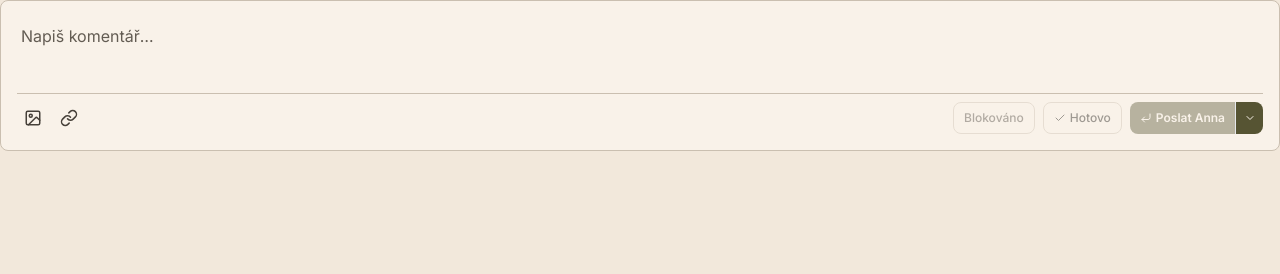
Test: CommentComposer — peer picker (V10) › opens the peer dropdown on chevron click + lists every peer
The width and height of the screenshot is (1280, 274).
Click the button named "Vybrat příjemce".
click(1249, 118)  # box left=1235, top=102, right=1263, bottom=134
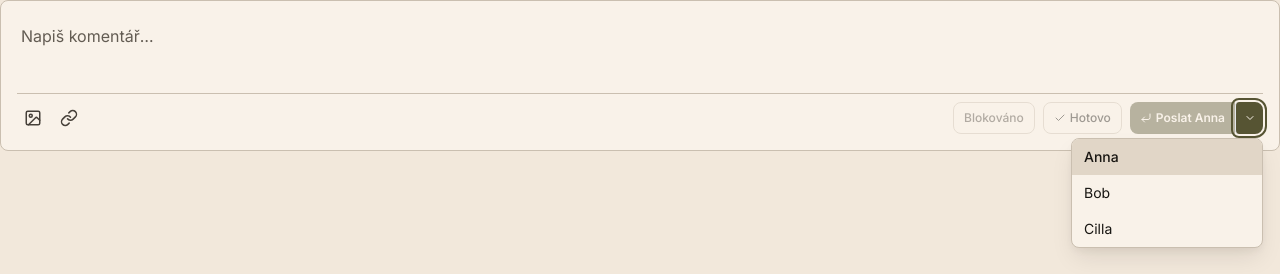
Expected: the number of options is 3, left=1072, top=139, right=1262, bottom=175; left=1072, top=175, right=1262, bottom=211; left=1072, top=211, right=1262, bottom=247
Expected: the option "Anna" is shown, left=1072, top=139, right=1262, bottom=175
Expected: the option "Cilla" is shown, left=1072, top=211, right=1262, bottom=247
